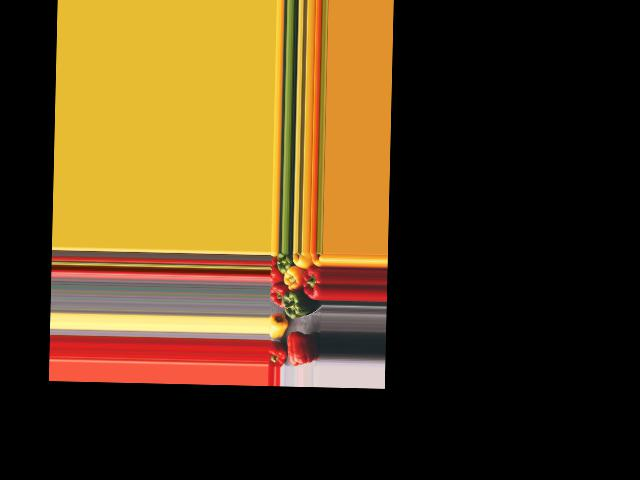bell_pepper: (270, 340, 286, 367)
